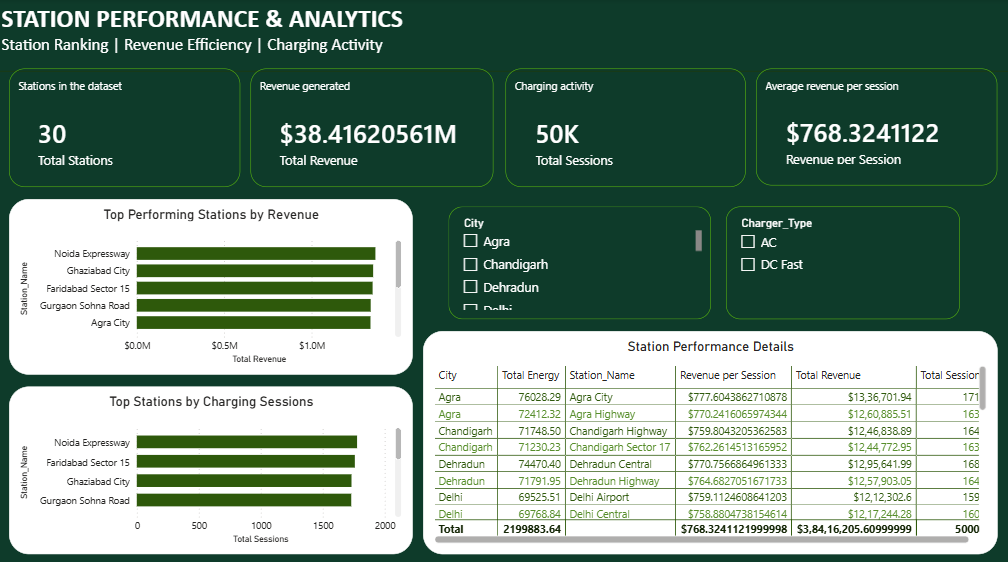

The page's visual inventory and layout, read from the dashboard file:
{"tool":"powerbi","page":{"name":"Station Performance","canvas":[1280,720],"ordinal":1},"visuals":[{"type":"textbox","box":[0,0,1279.4,92.6],"z":0},{"type":"cardVisual","fields":{"Data":["ev_charging_sessions_engineered.Total Revenue"]},"box":[319.4,88.8,306.1,149.3],"z":1000},{"type":"cardVisual","fields":{"Data":["ev_charging_sessions_engineered.Total Sessions"]},"box":[640.6,88.8,302.4,149.3],"z":2000},{"type":"cardVisual","fields":{"Data":["ev_charging_sessions_engineered.Revenue per Session"]},"box":[956.2,88.8,304.3,147.4],"z":3000},{"type":"cardVisual","fields":{"Data":["ev_charging_sessions_engineered.Total Stations"]},"box":[15.1,88.8,291,149.3],"z":4000},{"type":"clusteredBarChart","title":"Top Performing Stations by Revenue","fields":{"Category":["ev_charging_sessions_engineered.Station_Name"],"Y":["ev_charging_sessions_engineered.Total Revenue"]},"box":[15.1,253.2,508.4,221.1],"z":5000},{"type":"clusteredBarChart","title":"Top Stations by Charging Sessions","fields":{"Category":["ev_charging_sessions_engineered.Station_Name"],"Y":["ev_charging_sessions_engineered.Total Sessions"]},"box":[15.1,489.5,508.4,211.7],"z":6000},{"type":"tableEx","title":"Station Performance Details","fields":{"Values":["ev_charging_sessions_engineered.City","ev_charging_sessions_engineered.Total Energy","ev_charging_sessions_engineered.Station_Name","ev_charging_sessions_engineered.Revenue per Session","ev_charging_sessions_engineered.Total Revenue","ev_charging_sessions_engineered.Total Sessions"]},"box":[536.7,419.5,723.8,281.6],"z":7000},{"type":"slicer","fields":{"Values":["ev_charging_sessions_engineered.Charger_Type"]},"box":[918.4,262.7,294.8,141.7],"z":8000},{"type":"slicer","fields":{"Values":["ev_charging_sessions_engineered.City"]},"box":[568.8,262.7,330.7,141.7],"z":9000}]}

Visuals, with their boxes in screenshot pixels (x1, y1, x2, y2), scaled from the page's 1280x720 canvas onto the 1008x562 screenshot:
textbox: detection(0, 0, 1007, 72)
cardVisual - ev_charging_sessions_engineered.Total Revenue: detection(252, 69, 493, 186)
cardVisual - ev_charging_sessions_engineered.Total Sessions: detection(504, 69, 743, 186)
cardVisual - ev_charging_sessions_engineered.Revenue per Session: detection(753, 69, 993, 184)
cardVisual - ev_charging_sessions_engineered.Total Stations: detection(12, 69, 241, 186)
"Top Performing Stations by Revenue" clusteredBarChart: detection(12, 198, 412, 370)
"Top Stations by Charging Sessions" clusteredBarChart: detection(12, 382, 412, 547)
"Station Performance Details" tableEx: detection(423, 327, 993, 547)
slicer - ev_charging_sessions_engineered.Charger_Type: detection(723, 205, 955, 316)
slicer - ev_charging_sessions_engineered.City: detection(448, 205, 708, 316)
